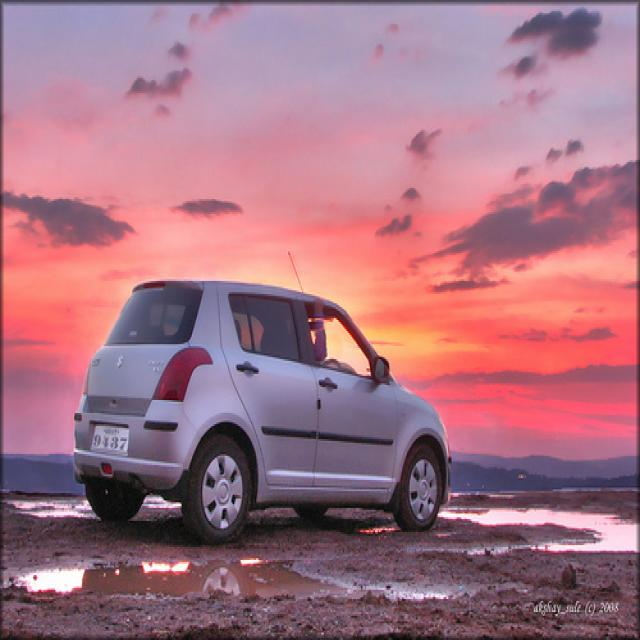Car: (72, 281, 452, 544)
